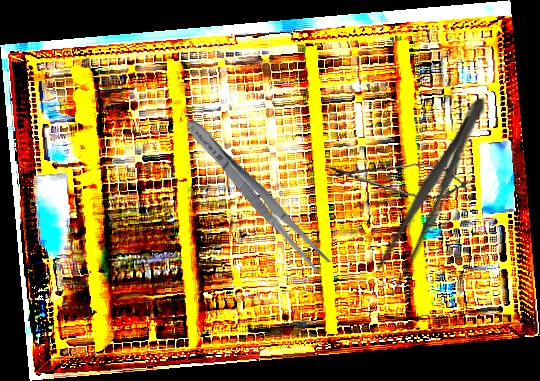Dressing Forceps: (366, 88, 498, 300), (179, 113, 334, 276)
Micro Scissor: (326, 155, 471, 203)
